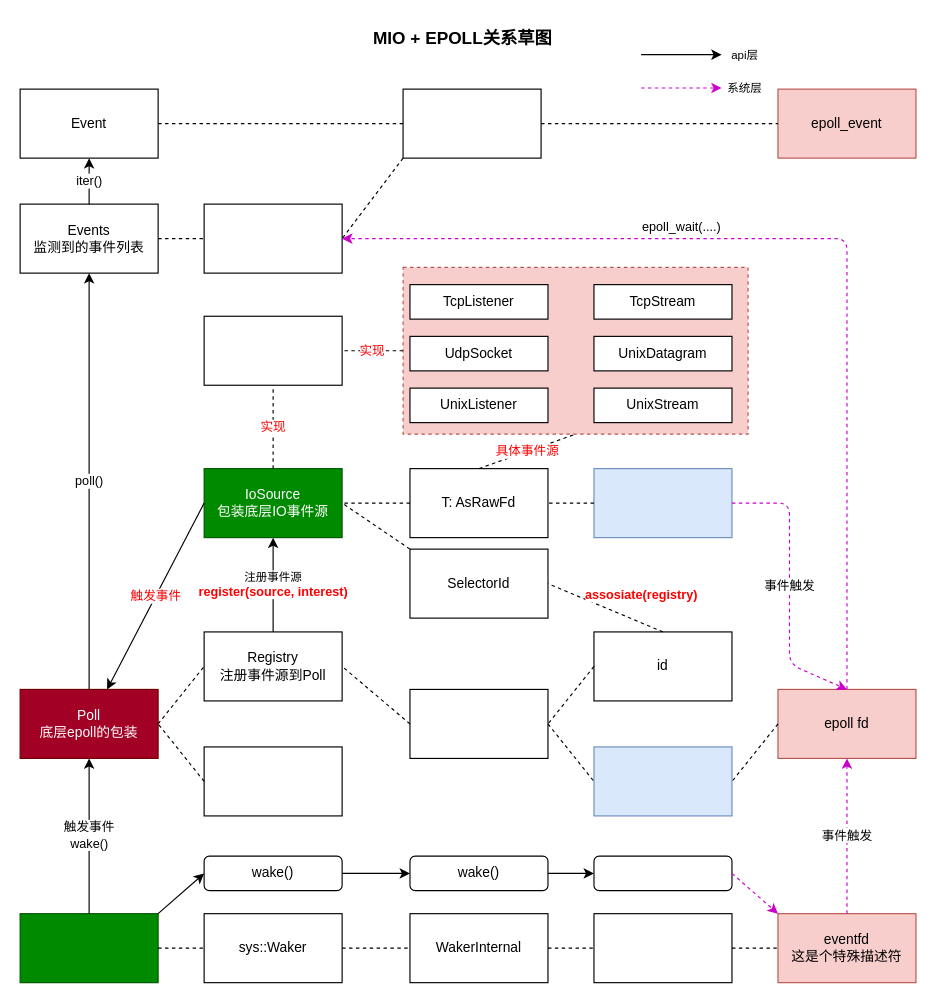
Some shapes in this 936 by 1003 pixel diagram are drawn without their labels. The box of each missing label's shape, as (x1, y1, x2, y2) in pixels:
Epoll's RawFd: (593, 746, 732, 816)
File: (593, 913, 732, 983)
has_waker: (203, 746, 342, 816)
IO's RawFd: (593, 467, 732, 538)
sys::Event: (402, 88, 541, 158)
sys::Events: (203, 203, 342, 273)
sys::Selector: (409, 688, 548, 758)
Trait Source 提供了注册epoll方法: (203, 315, 342, 385)
Waker 跨线程Poll唤醒器: (19, 913, 158, 983)
write(): (593, 855, 732, 891)
